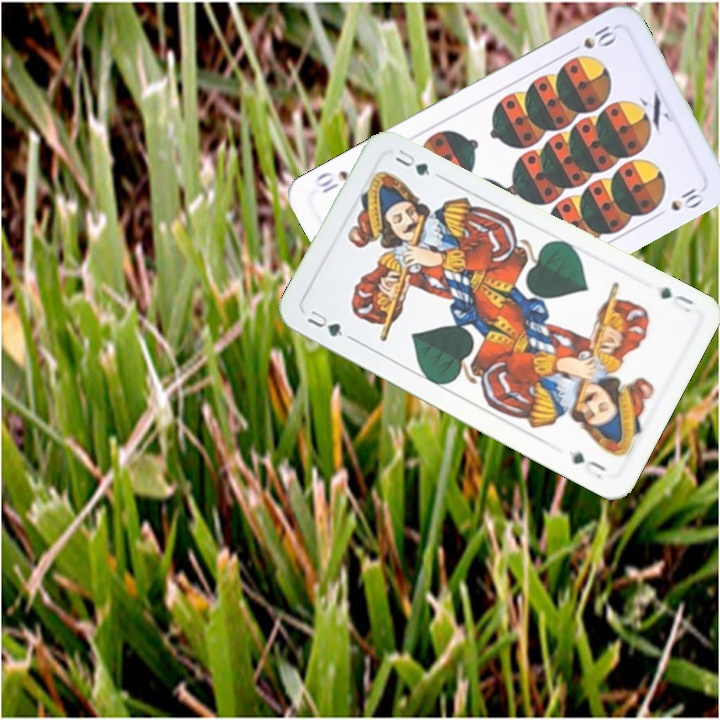GU: (303, 306, 346, 340), (656, 283, 696, 316)
S10: (564, 18, 621, 56)
